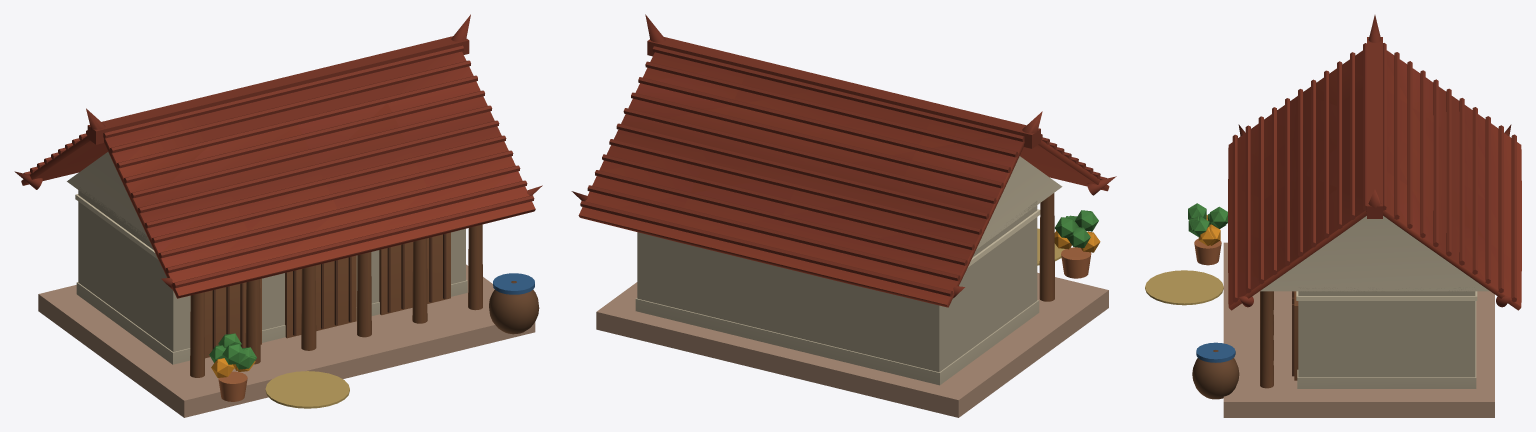
Rendered from hs-uhux87.glb.
3 views of the same model, side by side, from view 1: azimuth 30°, elevation 25°; view 2: azimuth 150°, elevation 25°; view 3: azimuth 270°, elevation 25° (orthographic). The views are drawn at different scales.
Bounding box in the file's own units: 10.53 × 6.65 × 9.59.
